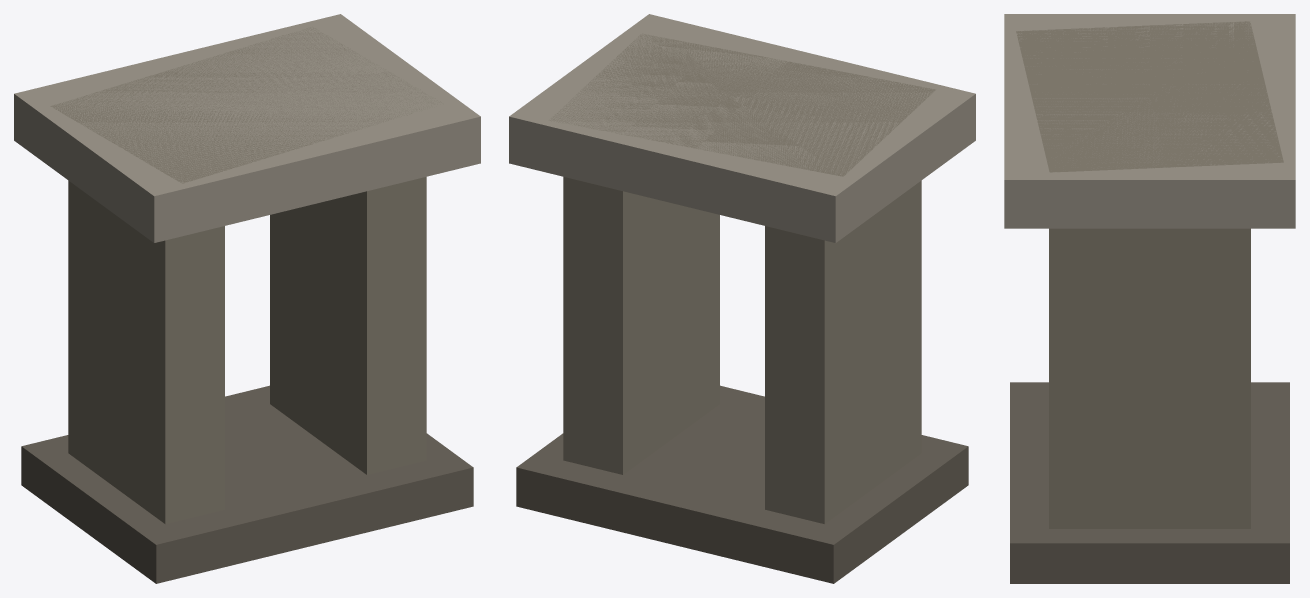
File: land-forest-35.glb
3 views of the same model, side by side, from view 1: azimuth 30°, elevation 25°; view 2: azimuth 150°, elevation 25°; view 3: azimuth 270°, elevation 25° (orthographic). The views are drawn at different scales.
Parts seen in each view (by area): view 1: land.forest.35; view 2: land.forest.35; view 3: land.forest.35.
Boxes of the visible parts, left/top/right/bottom form: land.forest.35: left=14, top=14, right=480, bottom=583; land.forest.35: left=509, top=14, right=975, bottom=583; land.forest.35: left=1004, top=14, right=1295, bottom=583.
Bounding box in the file's own units: 1.5 × 1.72 × 1.12.
